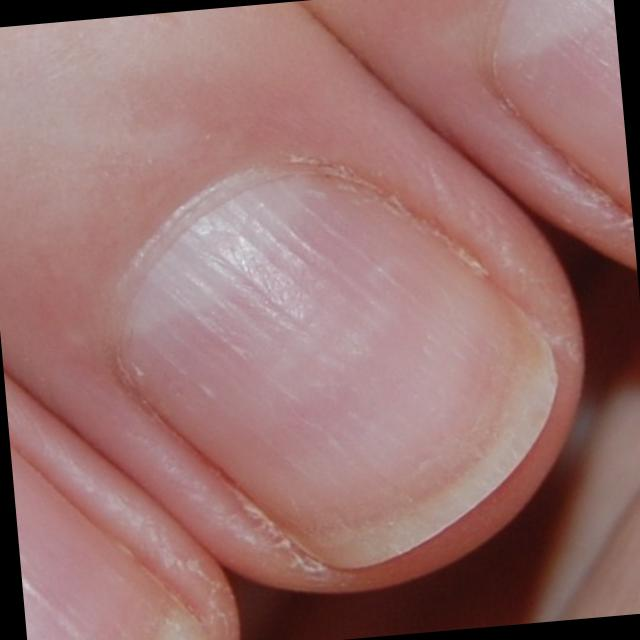Nail: (119, 167, 557, 567)
